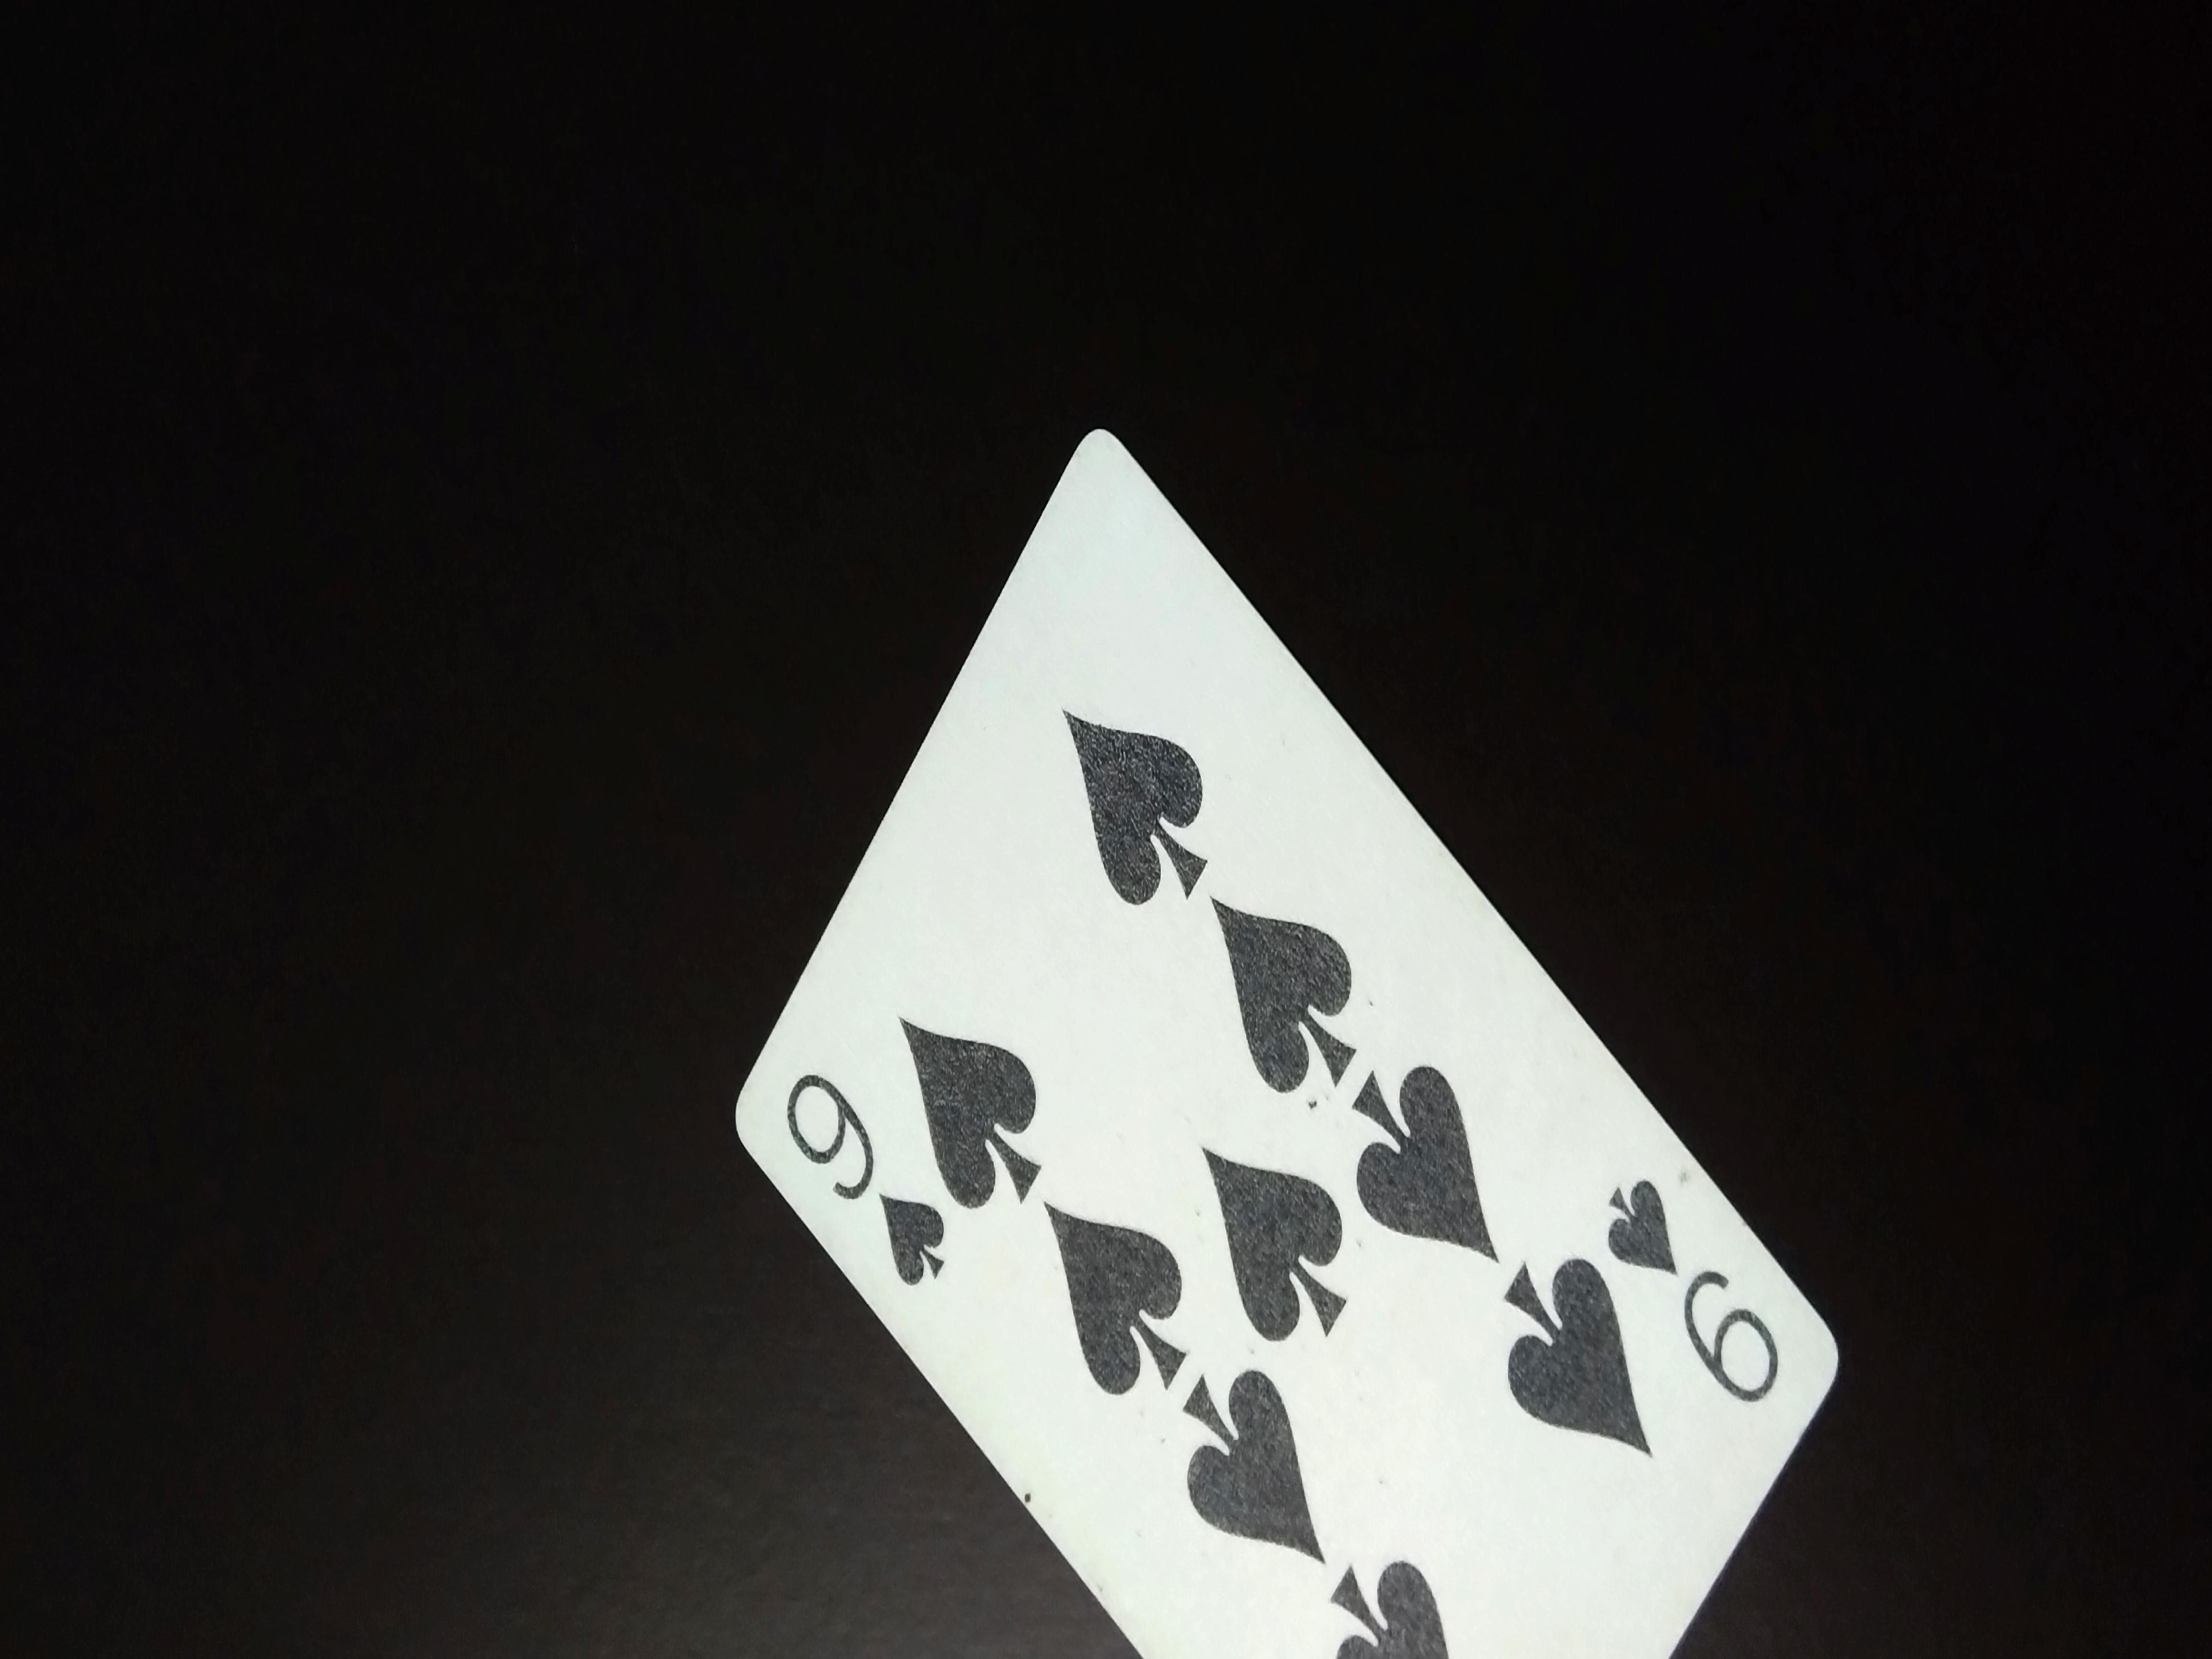9S: (754, 1063, 961, 1281)
